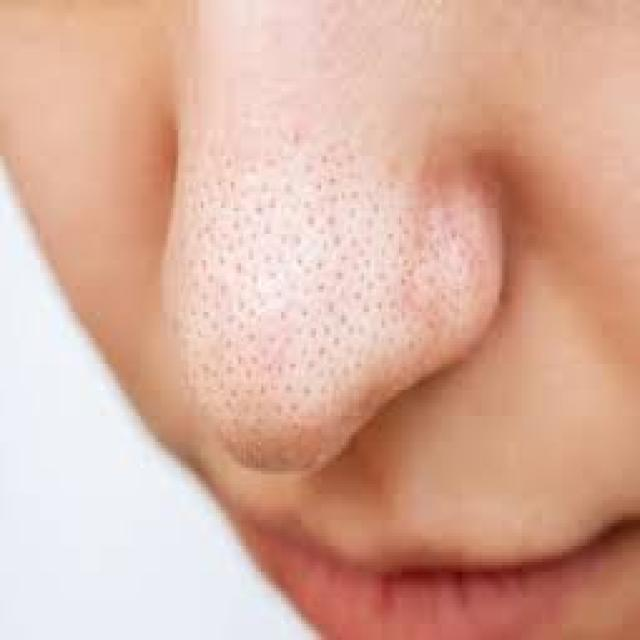blackhead: (163, 104, 457, 455)
